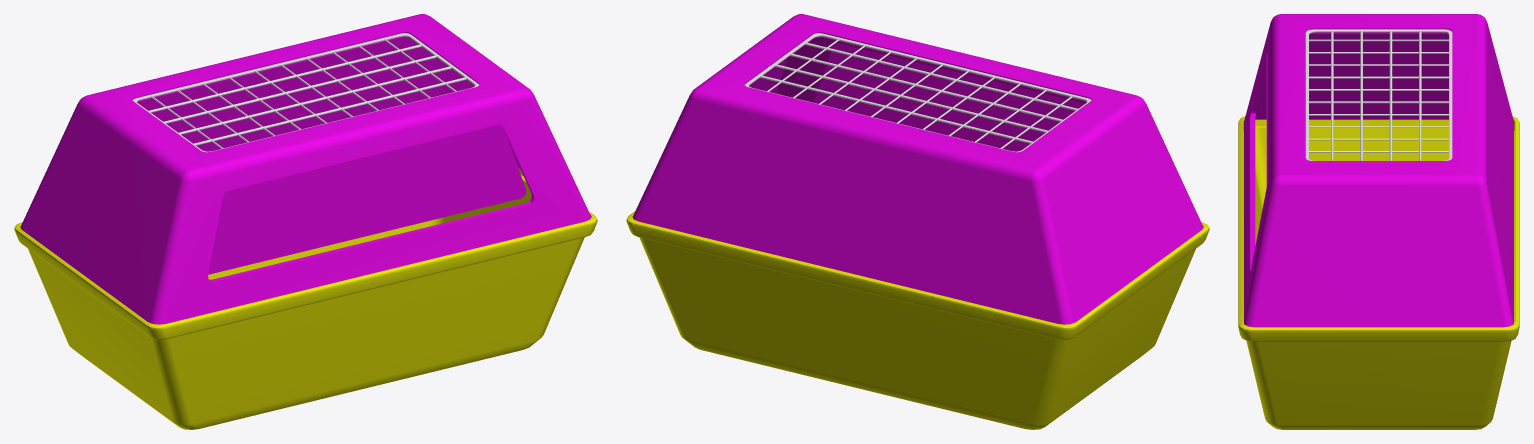
Rendered from SM_cage.fbx.
3 views of the same model, side by side, from view 1: azimuth 30°, elevation 25°; view 2: azimuth 150°, elevation 25°; view 3: azimuth 270°, elevation 25° (orthographic). The views are drawn at different scales.
Parts seen in each view (by area): view 1: top2, body, door, pCube4, pCylinder14, pCylinder16, pCylinder15, pCylinder17; view 2: top2, body, door, pCube4, pCylinder15, pCylinder16, pCylinder14, pCylinder17; view 3: top2, body, pCube4, pCylinder15, pCylinder24, pCylinder22, pCylinder19, pCylinder27, pCylinder16, pCylinder17, pCylinder14.
Boxes of the visible parts, x1,y1,x2,y2 form: top2: [20, 14, 591, 324]; body: [14, 167, 597, 429]; door: [208, 124, 526, 274]; pCube4: [132, 33, 478, 152]; pCylinder14: [147, 44, 421, 112]; pCylinder16: [177, 66, 451, 134]; pCylinder15: [162, 55, 436, 123]; pCylinder17: [192, 77, 466, 145]; top2: [632, 14, 1203, 324]; body: [626, 211, 1209, 429]; door: [813, 43, 1085, 151]; pCube4: [745, 33, 1091, 152]; pCylinder15: [775, 64, 1049, 132]; pCylinder16: [790, 53, 1064, 121]; pCylinder14: [760, 75, 1033, 143]; pCylinder17: [805, 42, 1077, 110]; top2: [1244, 14, 1513, 327]; body: [1238, 116, 1519, 429]; pCube4: [1305, 29, 1452, 160]; pCylinder15: [1389, 30, 1392, 160]; pCylinder24: [1309, 76, 1448, 78]; pCylinder22: [1309, 101, 1448, 103]; pCylinder19: [1309, 138, 1448, 140]; pCylinder27: [1309, 39, 1448, 41]; pCylinder16: [1360, 30, 1362, 160]; pCylinder17: [1331, 30, 1333, 160]; pCylinder14: [1419, 30, 1421, 160].
Size of the model in its own units: 69.31 by 37.86 by 38.41.
